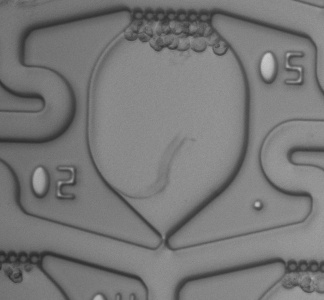AptNum: (250, 46, 312, 91)
Marker: (243, 192, 273, 219)
StNum: (23, 159, 85, 209)
Trap: (142, 240, 186, 282)
